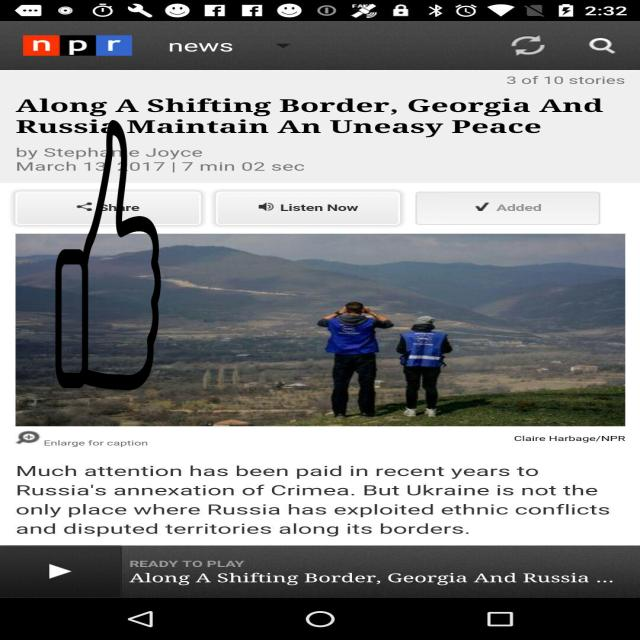privacy zuckering: (54, 120, 162, 390)
